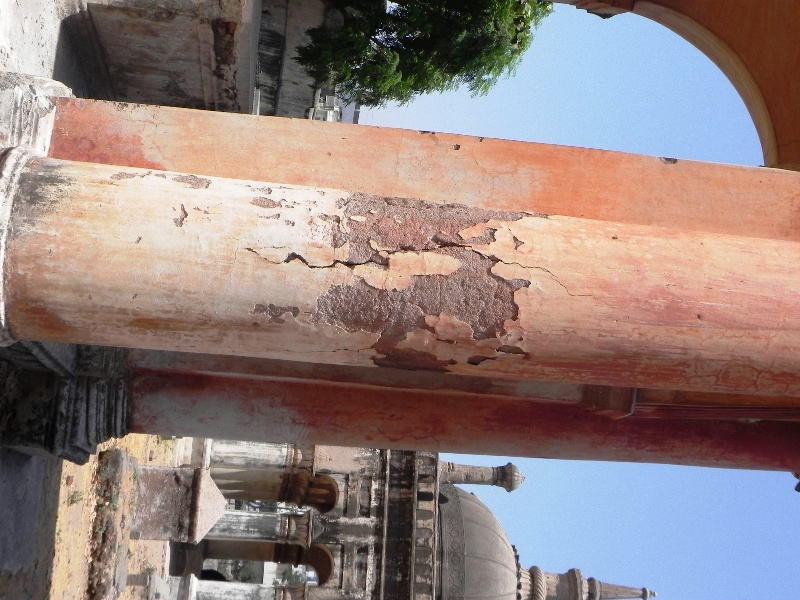Crack: (249, 244, 531, 270)
Spalling: (308, 276, 548, 368), (325, 187, 549, 241)
